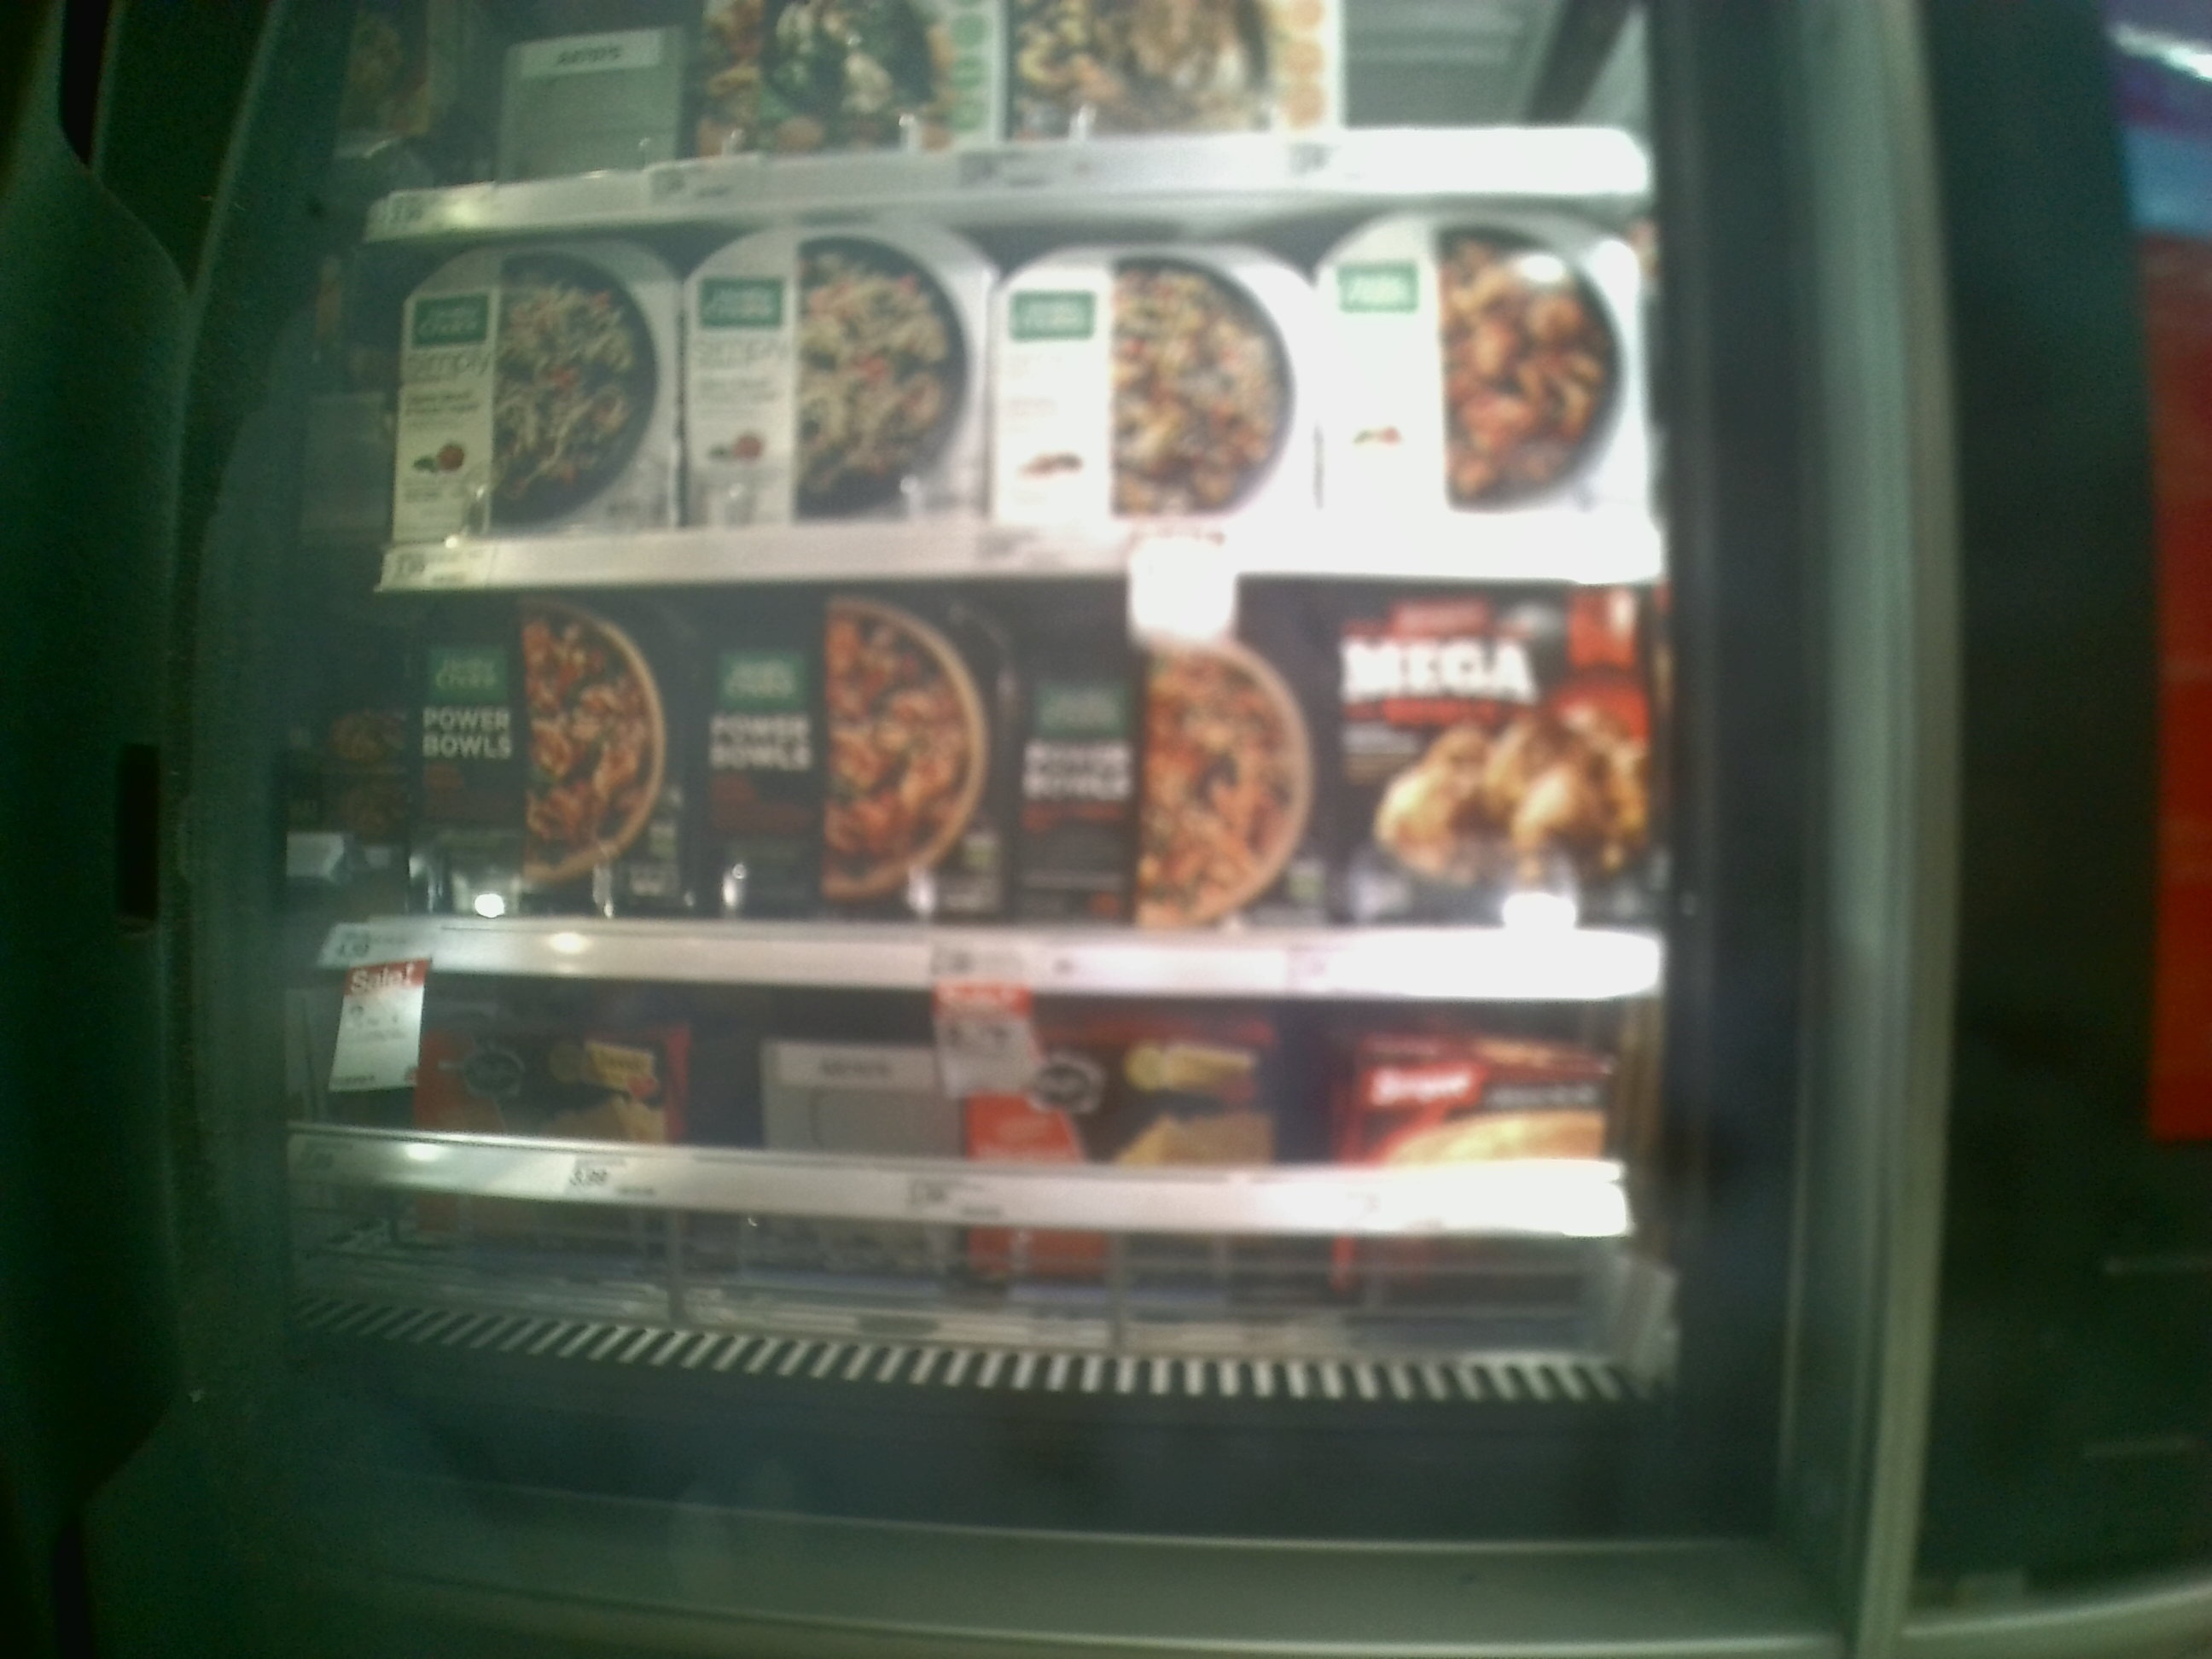shelf: (364, 580, 1679, 1002), (369, 186, 1658, 580)
